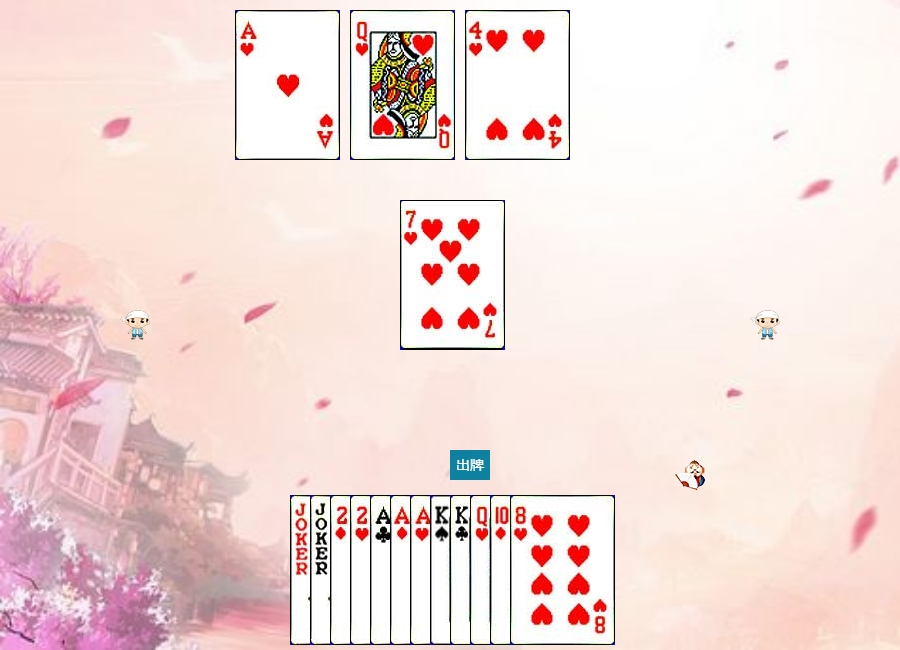10~1: (490, 495, 595, 645)
12~3: (350, 10, 455, 160), (470, 495, 575, 645)
13~2: (450, 495, 555, 645)
13~4: (430, 495, 535, 645)
14~1: (390, 495, 495, 645)
14~2: (370, 495, 475, 645)
14~3: (235, 10, 340, 160), (410, 495, 515, 645)
15~1: (330, 495, 435, 645)
15~3: (350, 495, 455, 645)
17~3: (310, 495, 415, 645)
18~4: (290, 495, 395, 645)
4~3: (465, 10, 570, 160)
7~3: (400, 200, 505, 350)
8~3: (510, 495, 615, 645)
